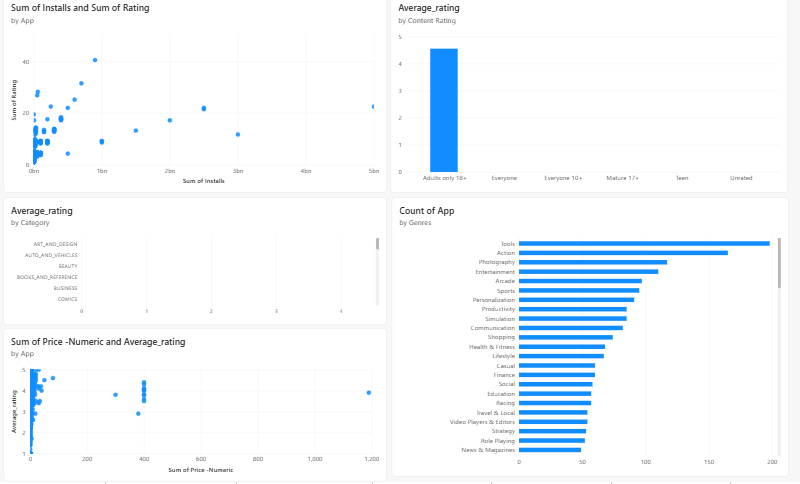

The page's visual inventory and layout, read from the dashboard file:
{"tool":"powerbi","page":{"name":"Medium_Level","canvas":[1920,1080],"ordinal":1},"visuals":[{"type":"scatterChart","fields":{"X":["Sum(Apps.Installs)"],"Y":["Sum(Apps.Rating)"],"Category":["App Dimension.App"]},"box":[9,0,850.2,438.6],"z":0},{"type":"barChart","fields":{"Category":["Apps.Category"],"Y":["Measure_Table.Average_rating"]},"box":[9,447.6,850.2,282.4],"z":1},{"type":"scatterChart","fields":{"X":["Sum(Apps.Price -Numeric)"],"Y":["Measure_Table.Average_rating"],"Category":["App Dimension.App"]},"box":[9,739.1,850.2,339.5],"z":2},{"type":"clusteredColumnChart","fields":{"Category":["Apps.Content Rating"],"Y":["Measure_Table.Average_rating"]},"box":[868.3,0,880.3,438.6],"z":3},{"type":"barChart","fields":{"Category":["Apps.Genres"],"Y":["Count(Apps.App)"]},"box":[871.3,447.6,880.3,618.9],"z":4}]}

Visuals, with their boxes on the page's 1920x1080 design canvas (x1, y1, x2, y2). These are canvas units, not pixel positions in the 800x484 screenshot, which may show the page scaled, cropped or inside an application window:
scatterChart - Sum(Apps.Installs) x Sum(Apps.Rating): crop(9, 0, 859, 439)
barChart - Apps.Category x Measure_Table.Average_rating: crop(9, 448, 859, 730)
scatterChart - Sum(Apps.Price -Numeric) x Measure_Table.Average_rating: crop(9, 739, 859, 1079)
clusteredColumnChart - Apps.Content Rating x Measure_Table.Average_rating: crop(868, 0, 1749, 439)
barChart - Apps.Genres x Count(Apps.App): crop(871, 448, 1752, 1066)
